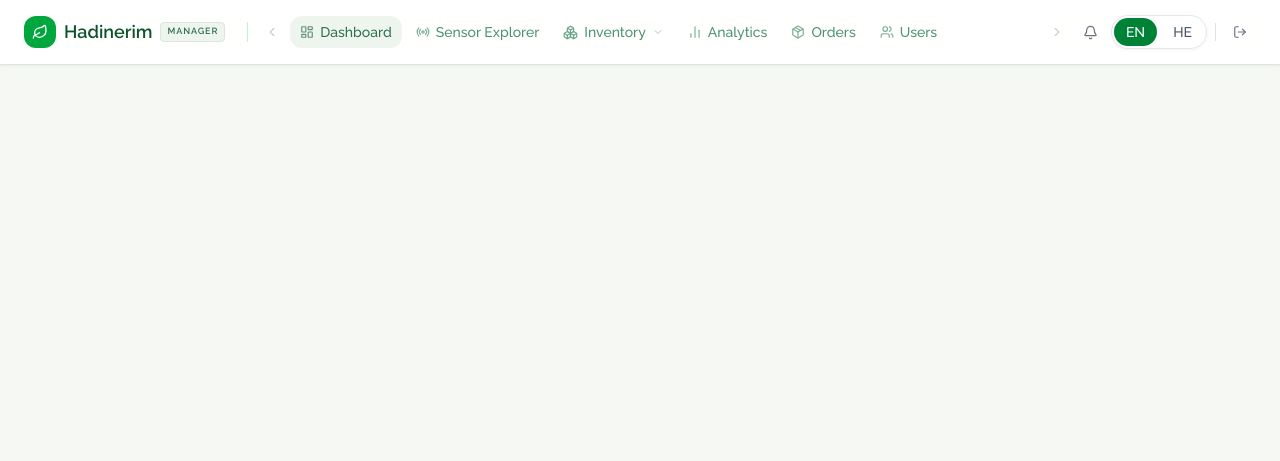
Test: ManagerNavbar — Inventory dropdown › opening bell closes any open dropdown
Click the button "Inventory": (614,32) [553, 16, 674, 48]
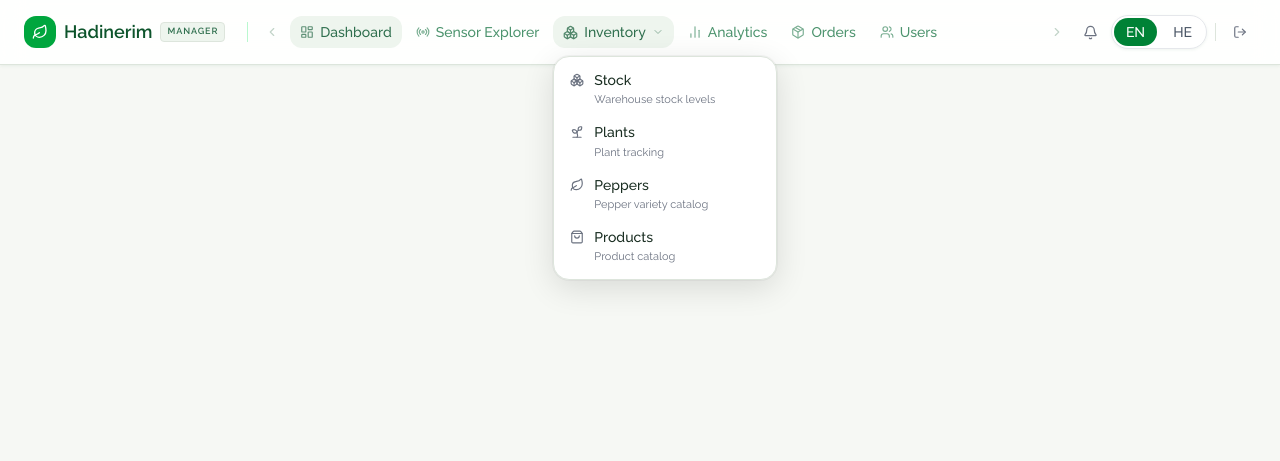
Check: the text "Stock" is shown, box [594, 72, 631, 88]
Click the button named "notifications": (1091,32) [1075, 16, 1107, 48]
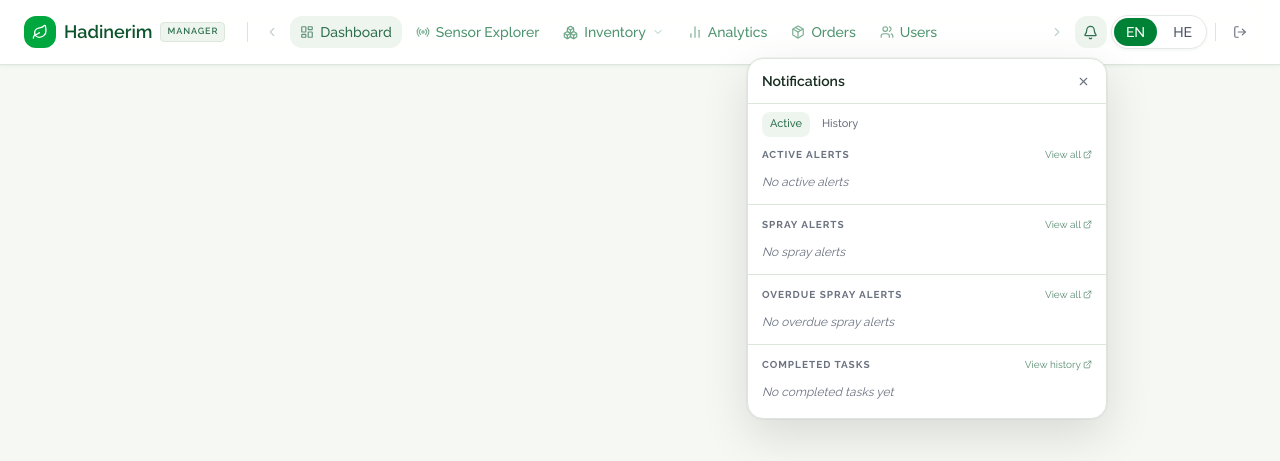
Check: the link "Stock" is gone
